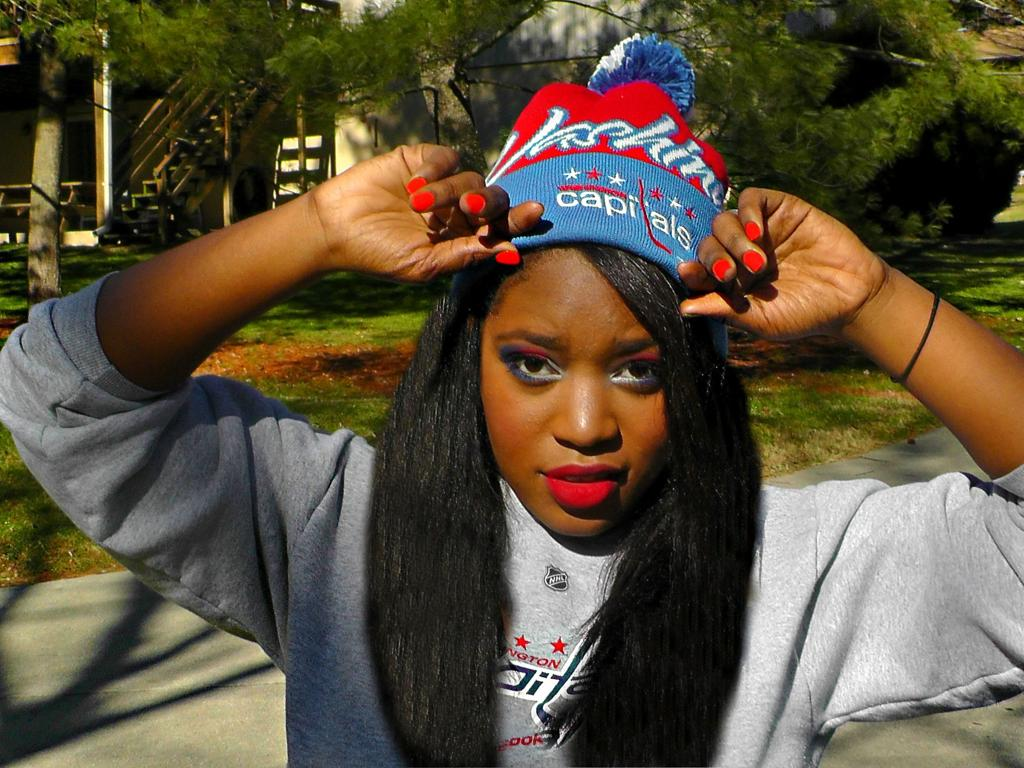face: (478, 280, 686, 538)
